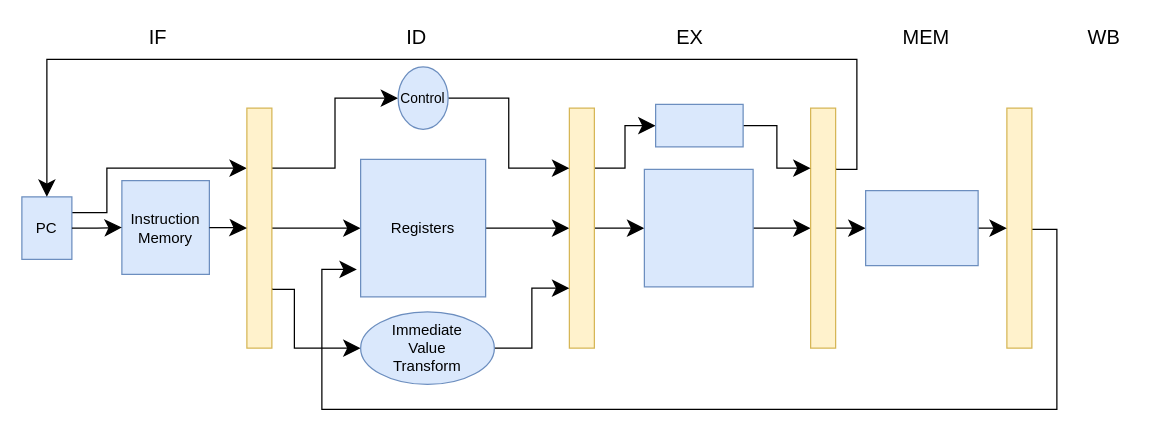
Image size: 1158x448. Some labels were removed from this diagram. The centre of each missing label's shape, as x and y in pixels:
ALU: (698,227)
Data Memory: (921,227)
EX_PC: (698,125)
